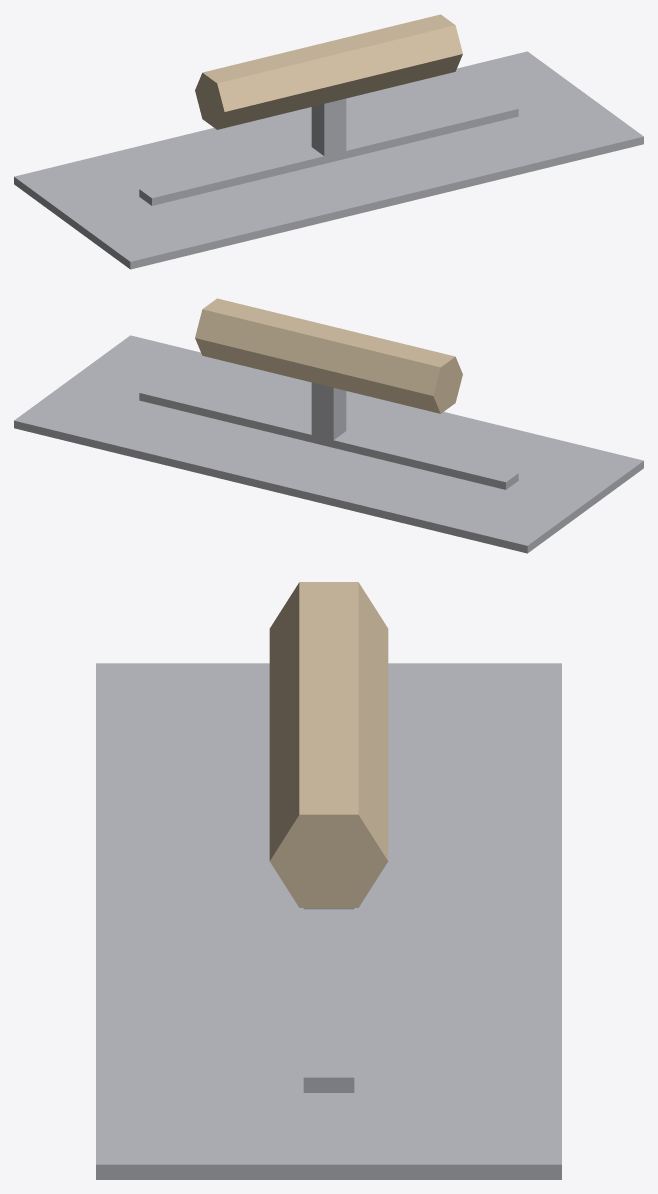
The model's file is prop-plaster-trowel-blank.fbx.
3 views of the same model, one above another, from view 1: azimuth 30°, elevation 25°; view 2: azimuth 150°, elevation 25°; view 3: azimuth 270°, elevation 25° (orthographic). The views are drawn at different scales.
Parts seen in each view (by area): view 1: prop-plaster-trowel-blank; view 2: prop-plaster-trowel-blank; view 3: prop-plaster-trowel-blank.
Boxes of the visible parts, left/top/right/bottom form: prop-plaster-trowel-blank: left=14, top=14, right=643, bottom=269; prop-plaster-trowel-blank: left=14, top=298, right=643, bottom=553; prop-plaster-trowel-blank: left=96, top=582, right=561, bottom=1179.
Size of the model in its own units: 28 by 6.01 by 11.
